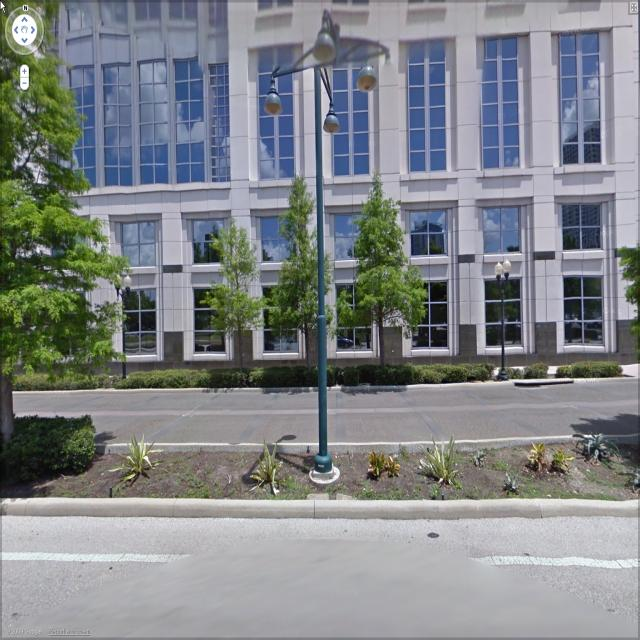b_2: (0, 4, 636, 378)
